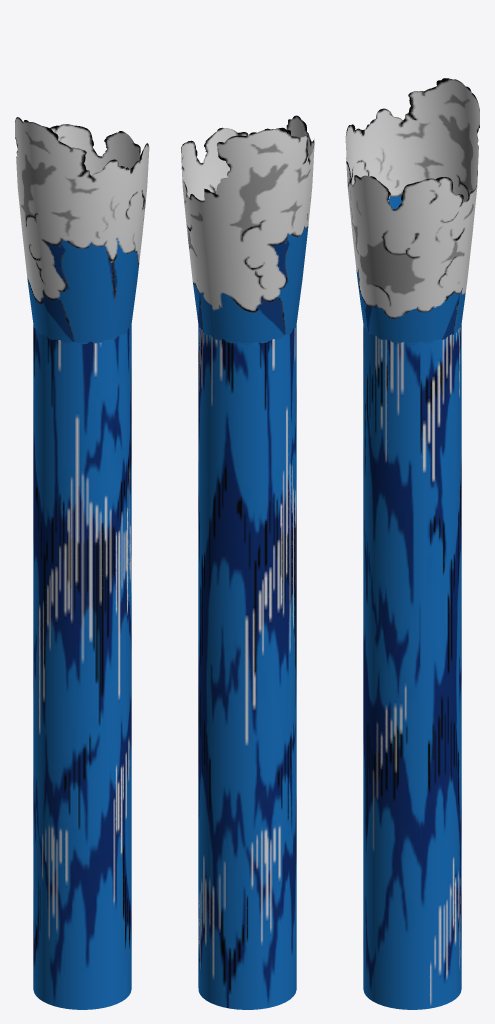
File: Water8_1.fbx
The picture shows the model from 3 angles, left to right: view 1: azimuth 90°, elevation 25°; view 2: azimuth 150°, elevation 25°; view 3: azimuth 270°, elevation 25°; orthographic projection.
Visible parts, largest first — view 1: SM_e_Skl_Wa_8Tak_Thin002; view 2: SM_e_Skl_Wa_8Tak_Thin002; view 3: SM_e_Skl_Wa_8Tak_Thin002.
Part boxes in pixels (x1=…): SM_e_Skl_Wa_8Tak_Thin002: x1=15, y1=117, x2=149, y2=1009; SM_e_Skl_Wa_8Tak_Thin002: x1=181, y1=115, x2=314, y2=1009; SM_e_Skl_Wa_8Tak_Thin002: x1=345, y1=78, x2=479, y2=1009.
Size of the model in its own units: 167 by 1263 by 164.
